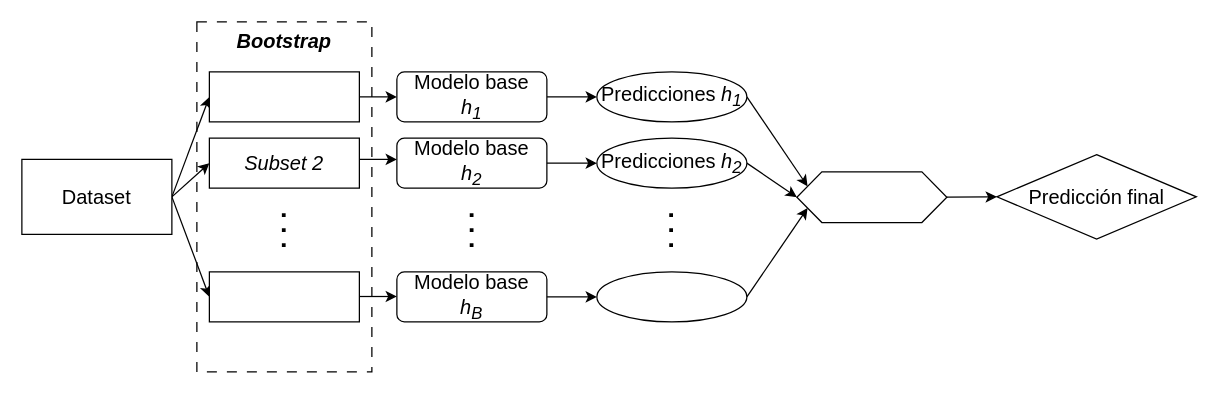
Image size: 1219x394. Some labels were removed from this diagram. Here are the shapes that lost their labels. From the top down, the centre of each, then its label:
At (x=283, y=96): "Subset 1".
At (x=871, y=196): "Agregación".
At (x=283, y=296): "Subset B".
At (x=671, y=296): "Predicciones h K".
